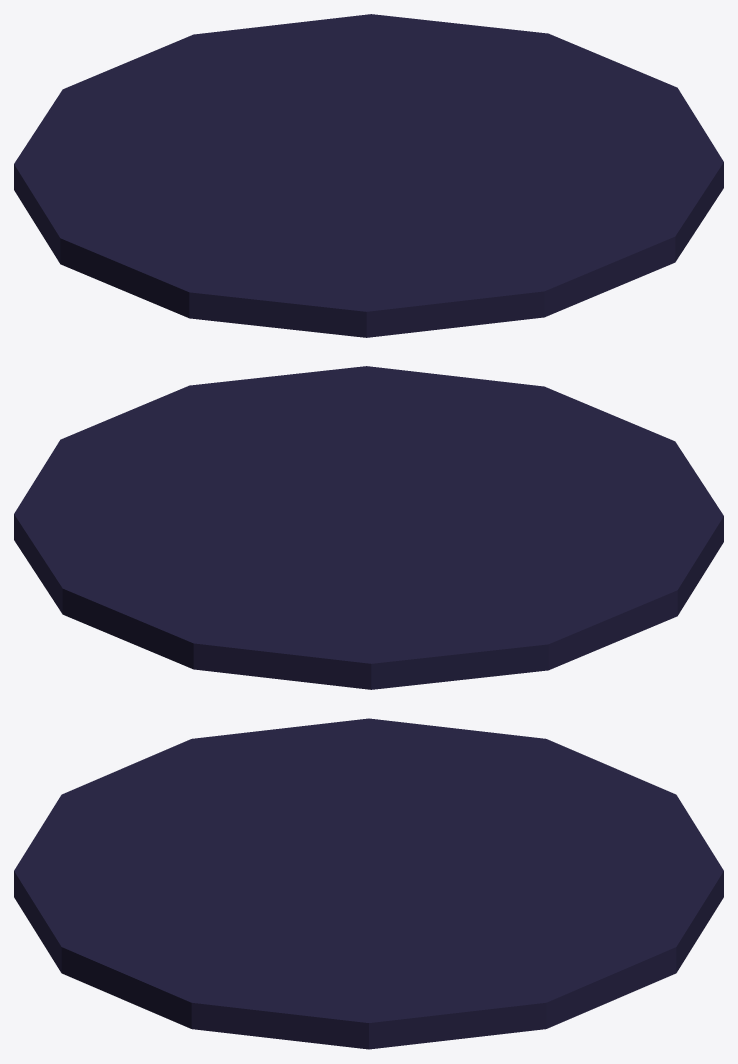
Rendered from Mesa_Redonda-WarRoom.glb.
3 renders of one model, top to bottom at view 1: azimuth 30°, elevation 25°; view 2: azimuth 150°, elevation 25°; view 3: azimuth 270°, elevation 25°, orthographic.
Visible parts, largest first — view 1: Mesa_redonda; view 2: Mesa_redonda; view 3: Mesa_redonda.
Part boxes in pixels (x1,y1,x2,y2): Mesa_redonda: [14, 14, 723, 337]; Mesa_redonda: [14, 366, 723, 689]; Mesa_redonda: [14, 718, 723, 1049].
Size of the model in its own units: 2.4 by 0.4432 by 2.36.
1 material, 1 textured.
